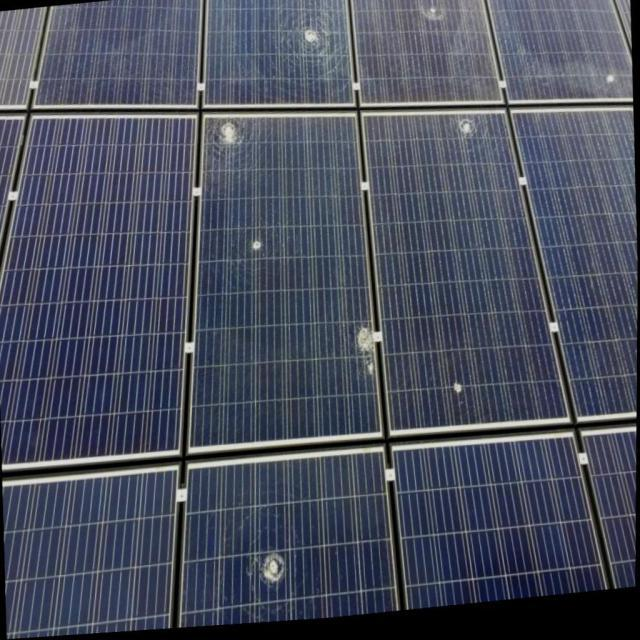cracked: (362, 113, 572, 441), (196, 119, 381, 454), (192, 468, 388, 618), (208, 2, 356, 110), (352, 0, 494, 101), (492, 0, 633, 100)
